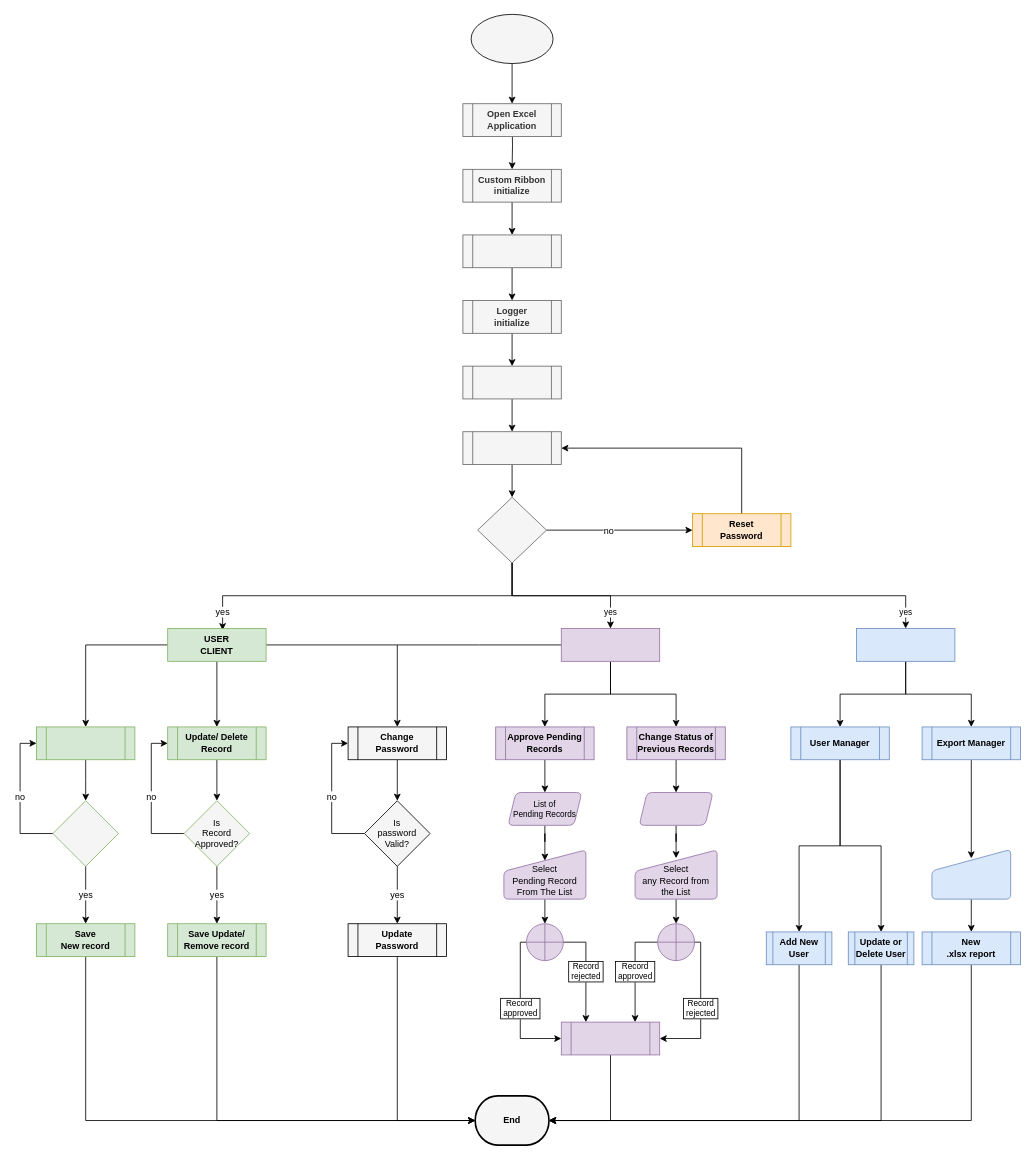
Some shapes in this 1035 by 1160 pixel diagram are drawn without their labels. The shapes that lost their labels are listed below. From the top down, each one's centre as x and y in pixels, then its label:
(511,39): START
(511,251): Refference Check
(511,382): Open Form Price Manager
(511,448): Prompt for Login
(512,530): Has Access?
(610,644): APPROVER
(905,644): MANAGER
(85,743): Add New Record
(675,808): List of All Records
(85,833): Is Record valid?
(971,874): Export Form Fields configurate
(610,1038): Append changes to DB
